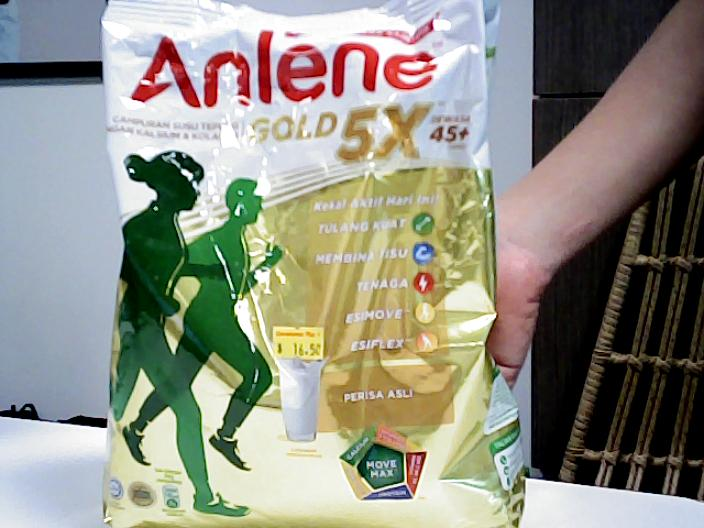Adult_Milk_1000-1999g_Halal_NonHealthy: (100, 1, 528, 528)
